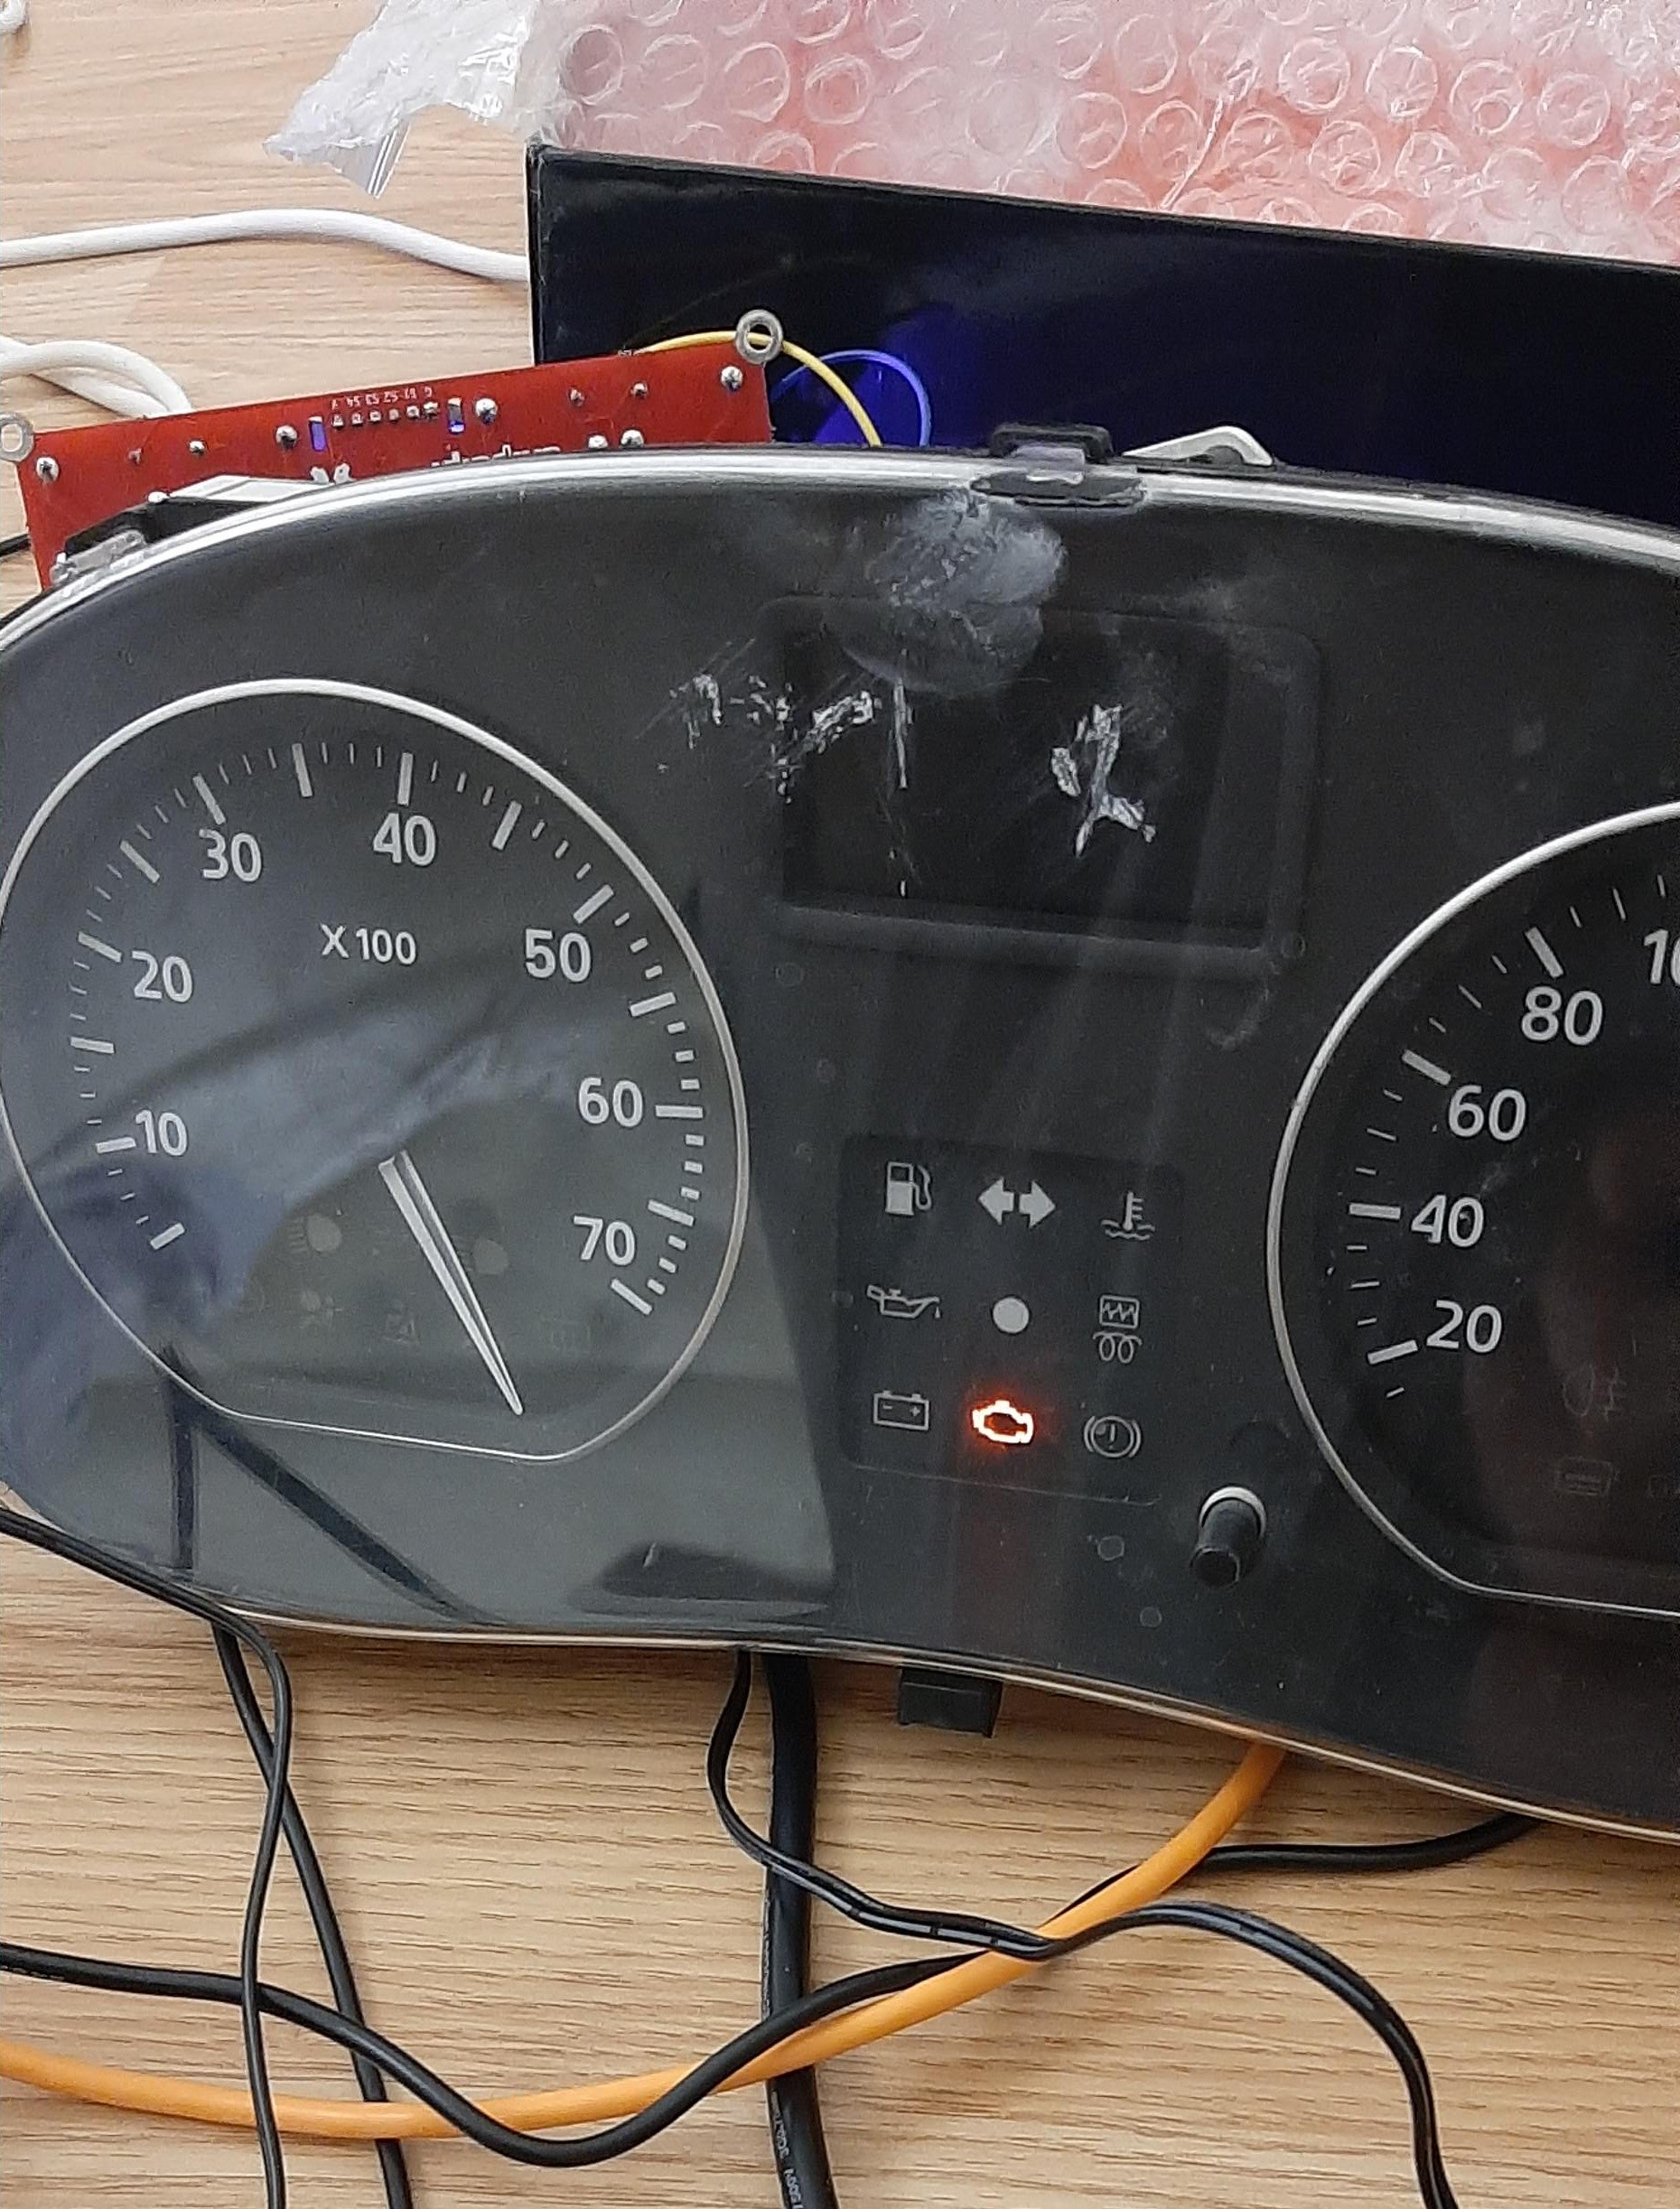engine27: (971, 1397, 1036, 1449)
